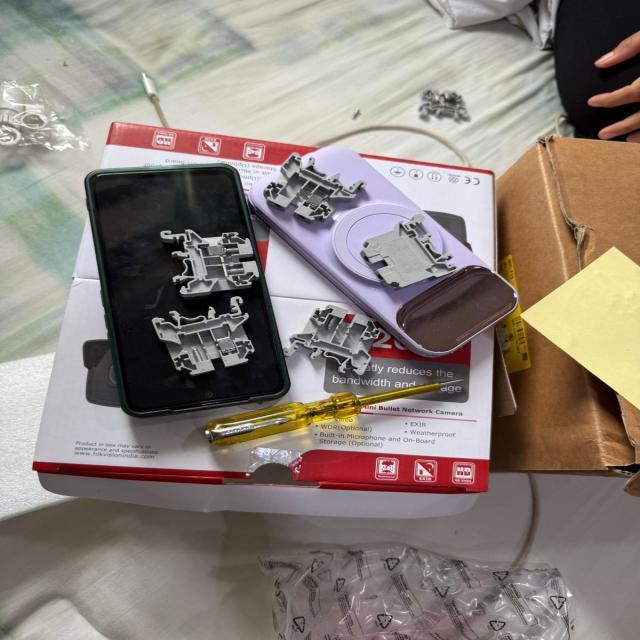Inverted: (350, 212, 466, 289)
Reject: (141, 296, 260, 374), (278, 293, 382, 376), (156, 222, 264, 296), (262, 152, 368, 224)
